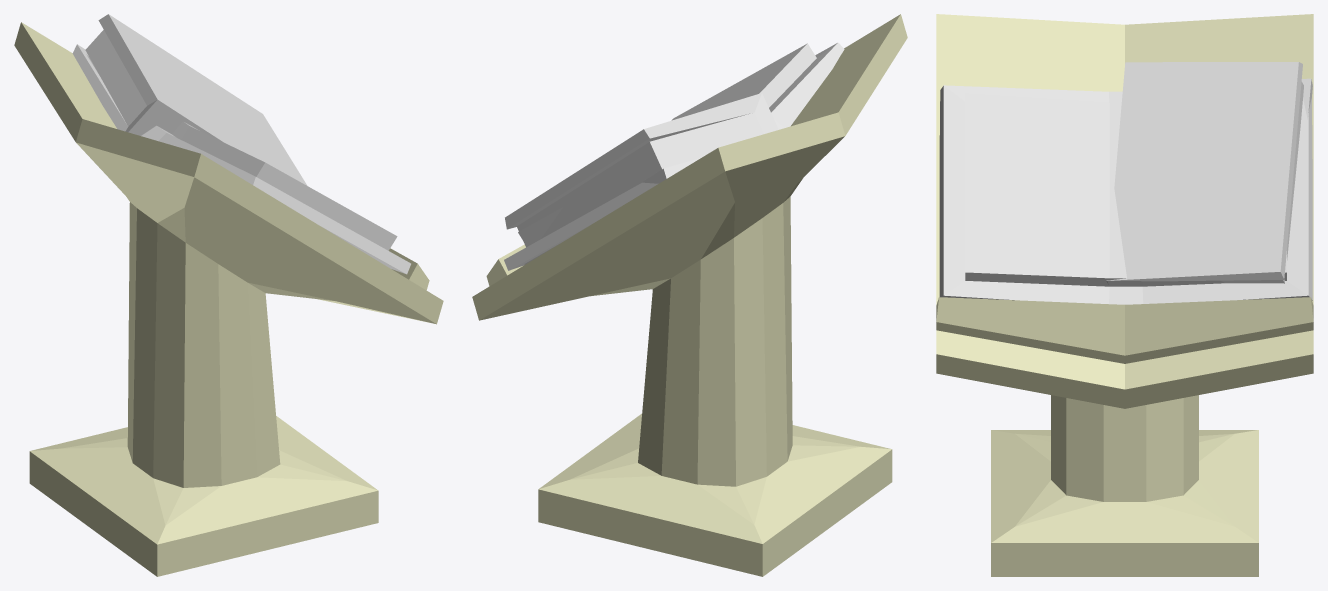
The model's file is pedestal_book.glb.
3 views of the same model, side by side, from view 1: azimuth 30°, elevation 25°; view 2: azimuth 150°, elevation 25°; view 3: azimuth 270°, elevation 25° (orthographic). The views are drawn at different scales.
Parts seen in each view (by area): view 1: Cube, book open, book closed; view 2: Cube, book open, book closed; view 3: Cube, book closed, book open.
Part boxes in pixels (left/top/right/bottom): Cube: left=14, top=22, right=443, bottom=576; book open: left=72, top=14, right=307, bottom=185; book closed: left=86, top=54, right=410, bottom=274; Cube: left=472, top=14, right=907, bottom=576; book open: left=505, top=93, right=778, bottom=264; book closed: left=504, top=42, right=844, bottom=270; Cube: left=936, top=14, right=1313, bottom=576; book closed: left=939, top=85, right=1312, bottom=304; book open: left=1106, top=62, right=1312, bottom=284.
Size of the model in its own units: 2.51 by 3.78 by 2.82.
